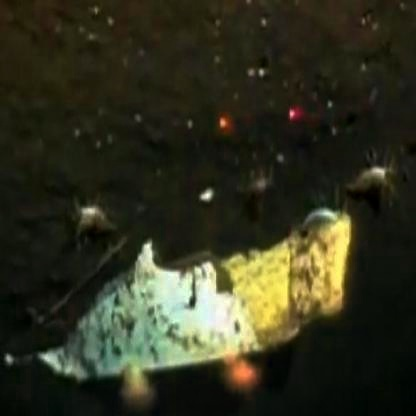misc: (72, 199, 361, 374)
